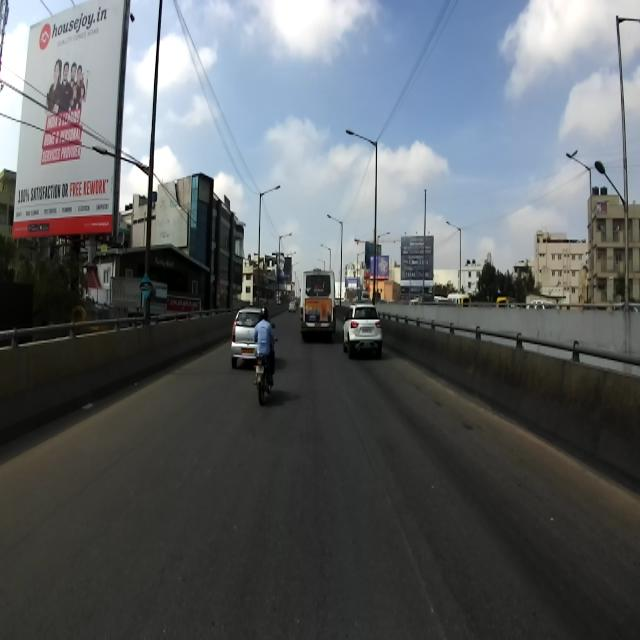bus ahead at: (299, 271, 335, 346)
car ahead at: (230, 303, 272, 371), (341, 301, 385, 355)
motorcycle ahead at: (250, 353, 278, 401)
